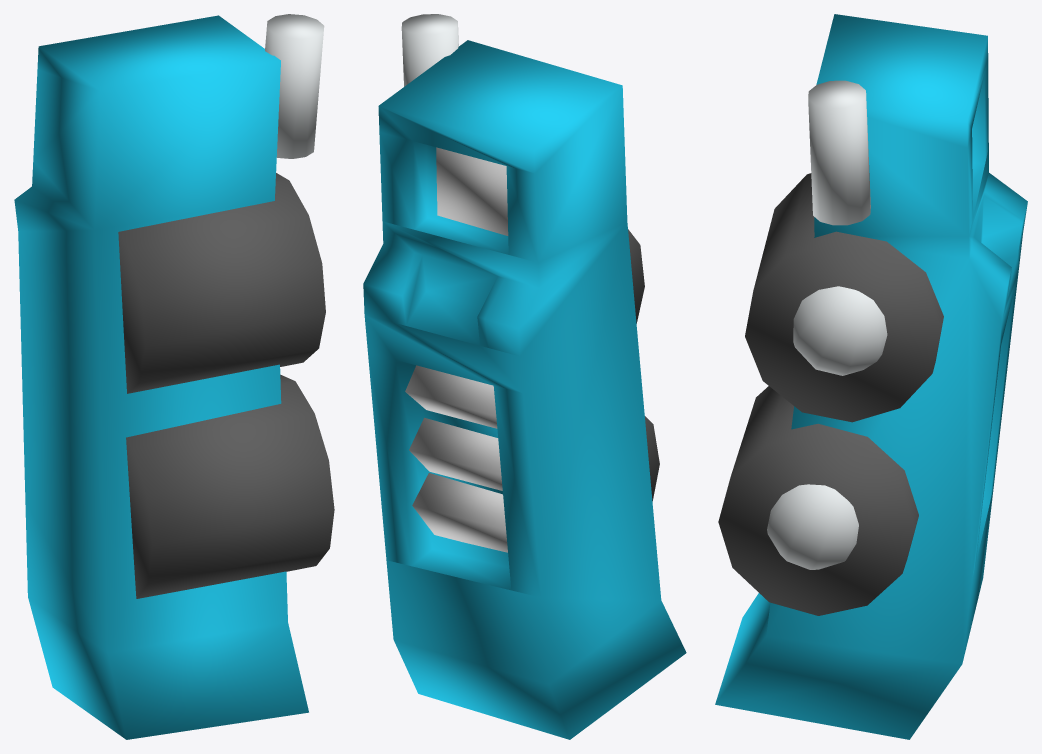
Rendered from shin_right.gltf.
3 renders of one model, left to right at view 1: azimuth 30°, elevation 25°; view 2: azimuth 150°, elevation 25°; view 3: azimuth 270°, elevation 25°, orthographic. The views are drawn at different scales.
Parts seen in each view (by area): view 1: group873197017; view 2: group873197017; view 3: group873197017.
Part boxes in pixels (left/top/right/bottom): group873197017: left=14, top=14, right=334, bottom=739; group873197017: left=363, top=14, right=686, bottom=739; group873197017: left=715, top=14, right=1027, bottom=739.
Bounding box in the file's own units: 0.0918 × 0.2386 × 0.1027.
